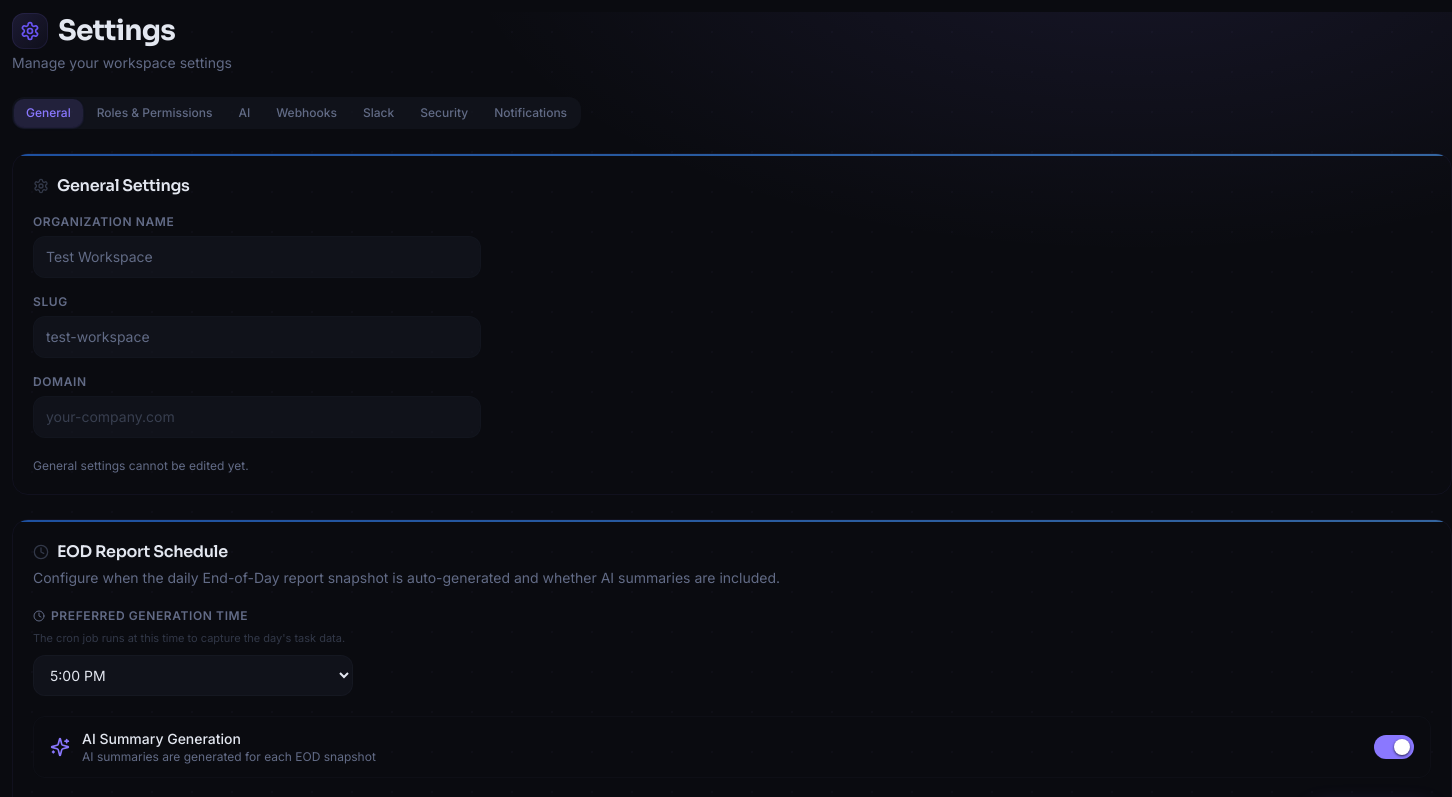
Test: Preview chime button › renders the preview chime button next to the Sound toggle
The width and height of the screenshot is (1452, 797).
Check: the text "Settings" is shown, box left=58, top=12, right=175, bottom=49
What coordinates should you click on to do the following:
click the tab "Notifications"
I would click on:
 (531, 113)
Its box is left=482, top=99, right=579, bottom=127.
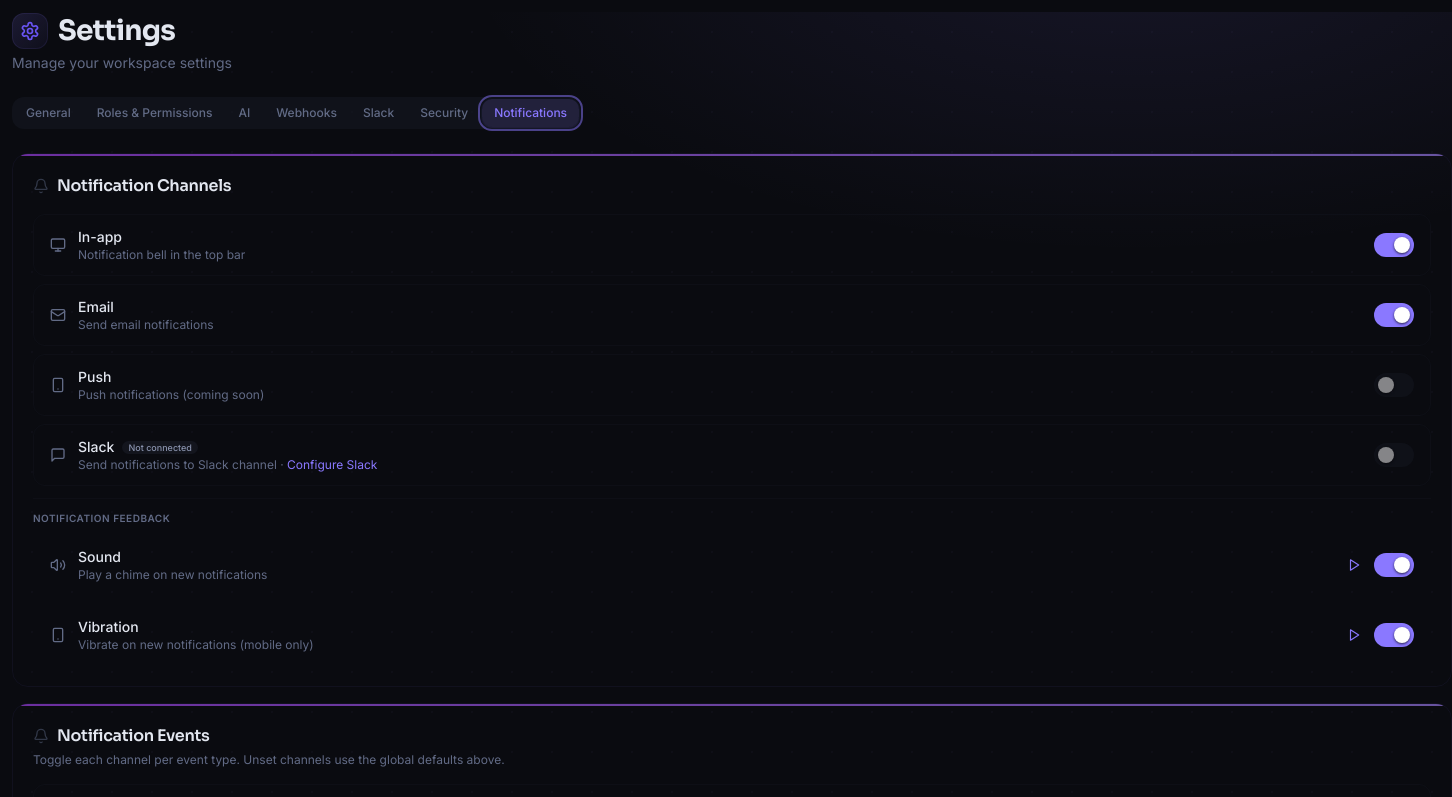
Check: the heading "Notification Channels" is shown, box left=33, top=175, right=231, bottom=196
Check: the text "Notification Feedback" is shown, box left=33, top=512, right=170, bottom=524
Check: the button named "preview notification chime" is shown, box left=1340, top=551, right=1368, bottom=579
